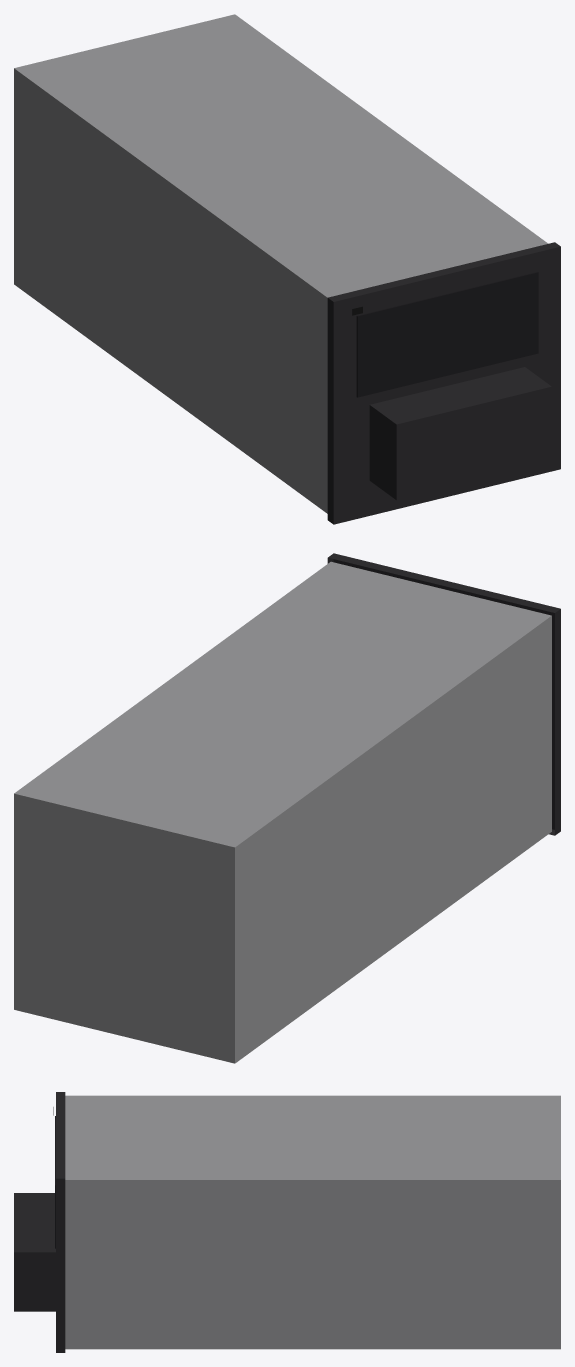
The model's file is FAN-T1.far.glb.
3 renders of one model, top to bottom at view 1: azimuth 30°, elevation 25°; view 2: azimuth 150°, elevation 25°; view 3: azimuth 270°, elevation 25°, orthographic. The views are drawn at different scales.
Visible parts, largest first — view 1: Fan_far; view 2: Fan_far; view 3: Fan_far.
Part boxes in pixels (x1=…): Fan_far: x1=14, y1=14, x2=560, y2=524; Fan_far: x1=14, y1=553, x2=560, y2=1063; Fan_far: x1=14, y1=1092, x2=560, y2=1352.
Bounding box in the file's own units: 0.0439 × 0.0411 × 0.117.
2 materials, 1 textured.
